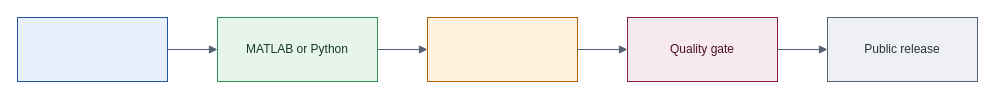
Image size: 995x99. Some labels were removed from this diagram. Each missing label, with the centre of its shape:
Figure outputs: point (502, 49)
Synthetic data: point (92, 49)
